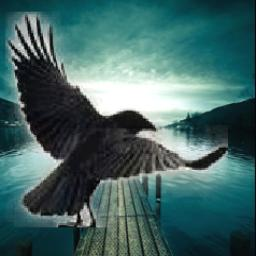Crow: (6, 13, 229, 228)
